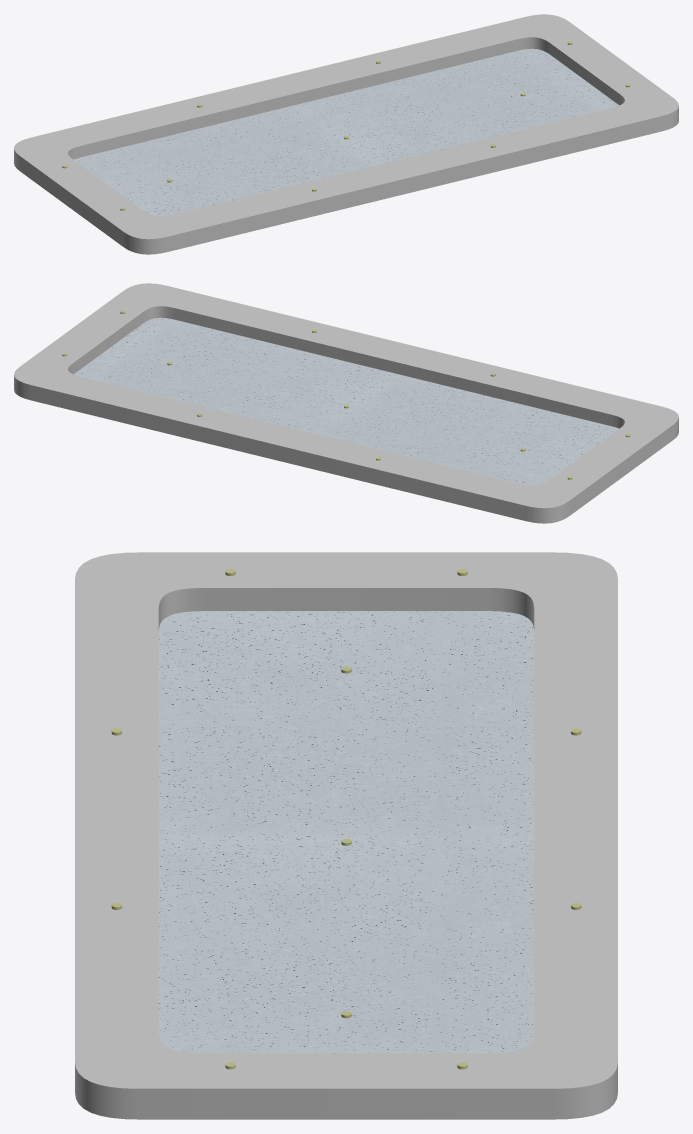
Rendered from M_C_Deco_003_22x10.fbx.
3 views of the same model, one above another, from view 1: azimuth 30°, elevation 25°; view 2: azimuth 150°, elevation 25°; view 3: azimuth 270°, elevation 25° (orthographic). The views are drawn at different scales.
Parts seen in each view (by area): view 1: M_C_Deco_003_22x10; view 2: M_C_Deco_003_22x10; view 3: M_C_Deco_003_22x10.
Boxes of the visible parts, x1,y1,x2,y2 form: M_C_Deco_003_22x10: (14,14,678,254); M_C_Deco_003_22x10: (14,283,678,523); M_C_Deco_003_22x10: (75,552,617,1119).
Bounding box in the file's own units: 21.5 × 0.625 × 9.2.
